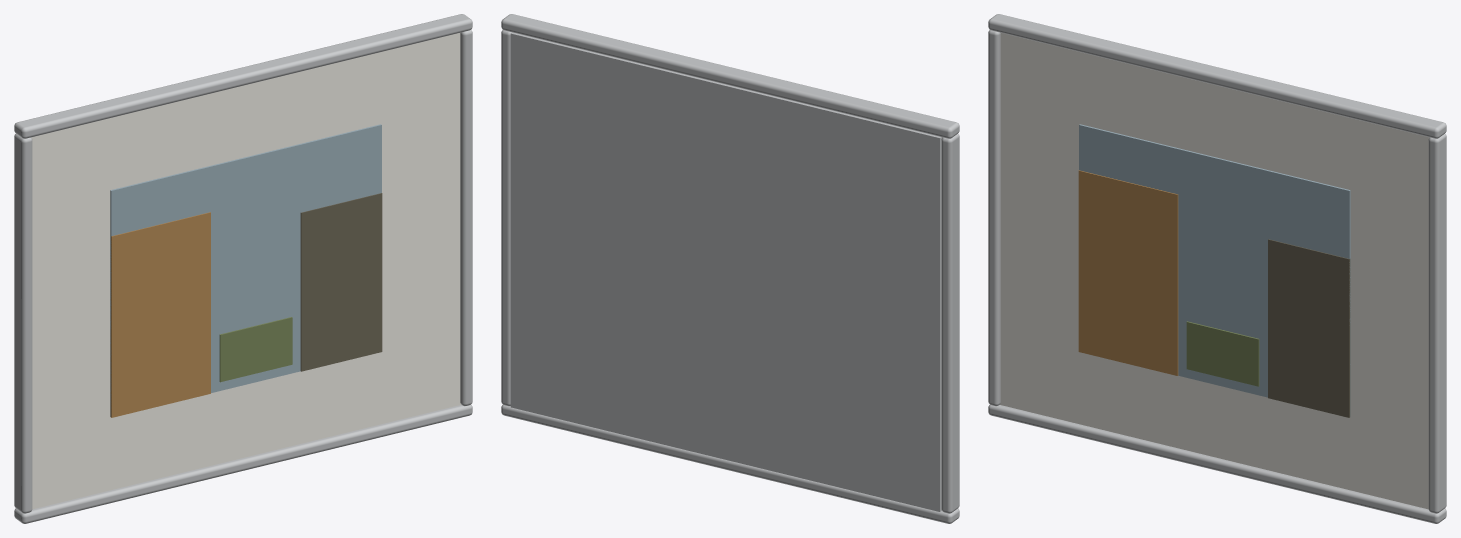
The model's file is cuadro-marco-plateado.glb.
3 views of the same model, side by side, from view 1: azimuth 30°, elevation 25°; view 2: azimuth 150°, elevation 25°; view 3: azimuth 330°, elevation 25° (orthographic).
Parts seen in each view (by area): view 1: cuadro-marco-plateado; view 2: cuadro-marco-plateado; view 3: cuadro-marco-plateado.
Part boxes in pixels (left/top/right/bottom): cuadro-marco-plateado: left=14, top=14, right=472, bottom=523; cuadro-marco-plateado: left=501, top=14, right=959, bottom=523; cuadro-marco-plateado: left=988, top=14, right=1446, bottom=523.
Bounding box in the file's own units: 0.5 × 0.42 × 0.02.
